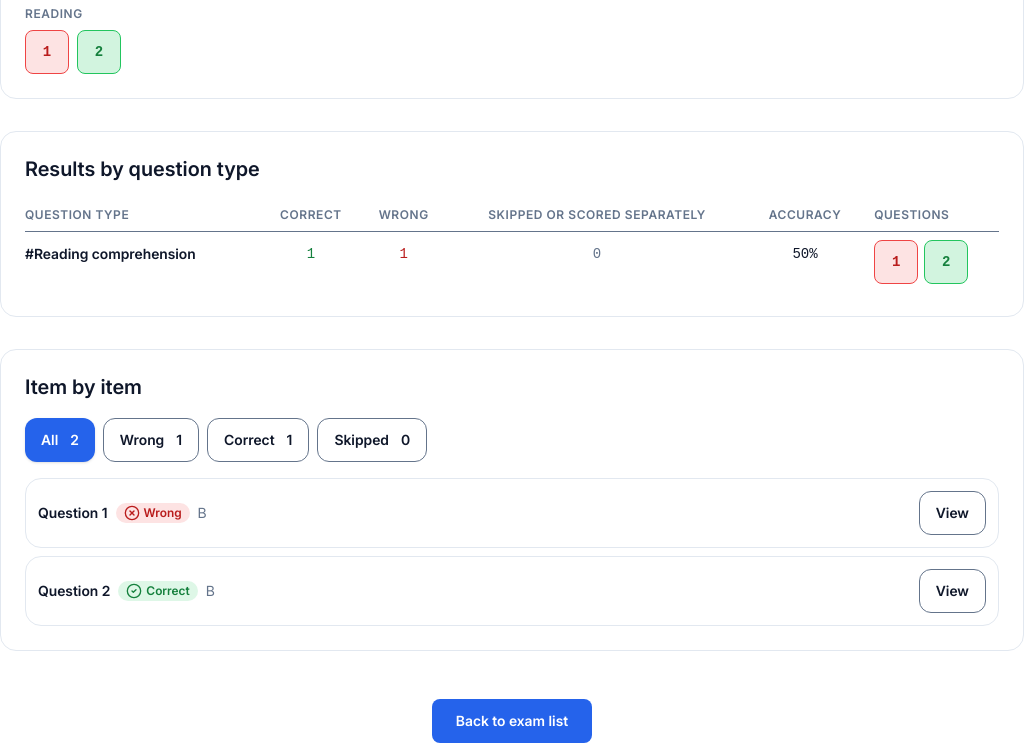
Test: exam report question review › filters compact rows and expands only the selected question
(page scrolled)
Expected: the text "When is the library closed?" is not shown
Expected: the text "The passage says it is closed on Friday." is not shown
Click the button "Wrong 1": (151, 440) [103,418,199,462]
(page scrolled)
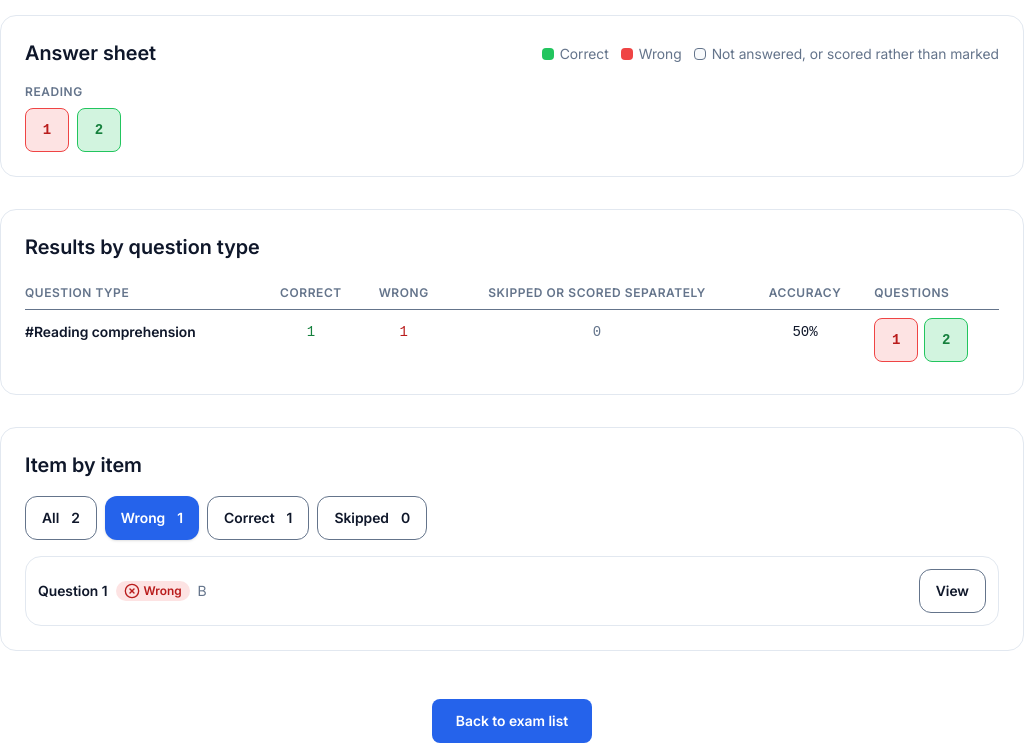
Expected: the text "Question 1" is shown, [38,581,108,601]
Result: the text "Question 2" is gone
Click the button "Correct 1": (258, 518) [207,496,309,540]
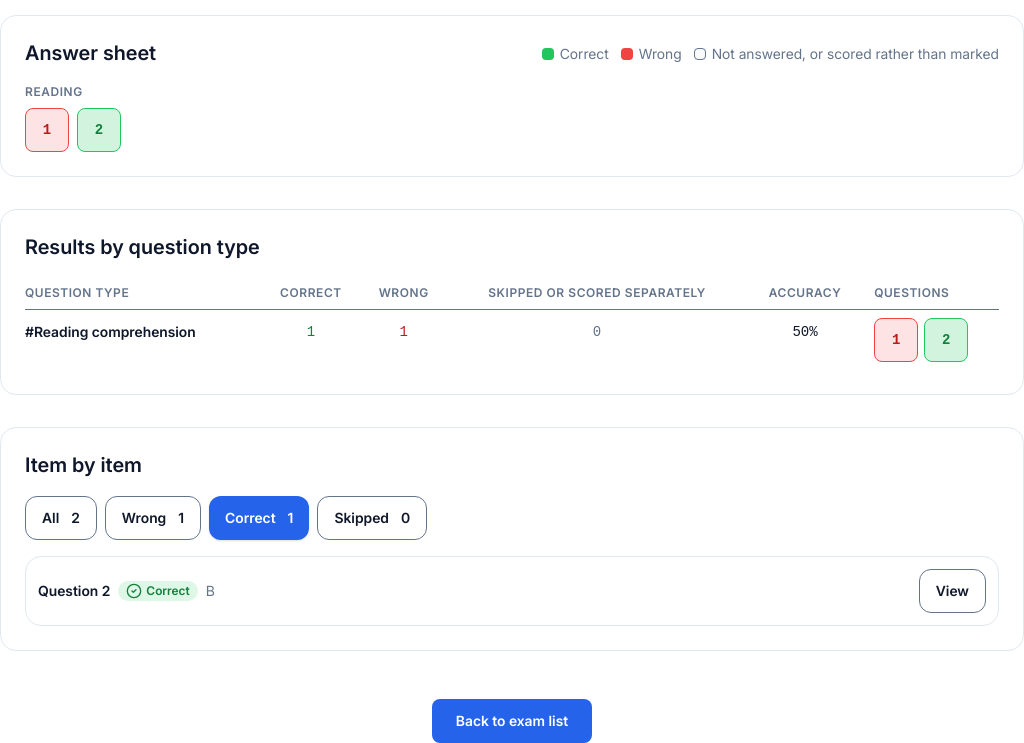
Result: the text "Question 2" is shown at [38,581,110,601]
Result: the text "Question 1" is gone
Click the button "All 2": (61, 518) [25,496,97,540]
(page scrolled)
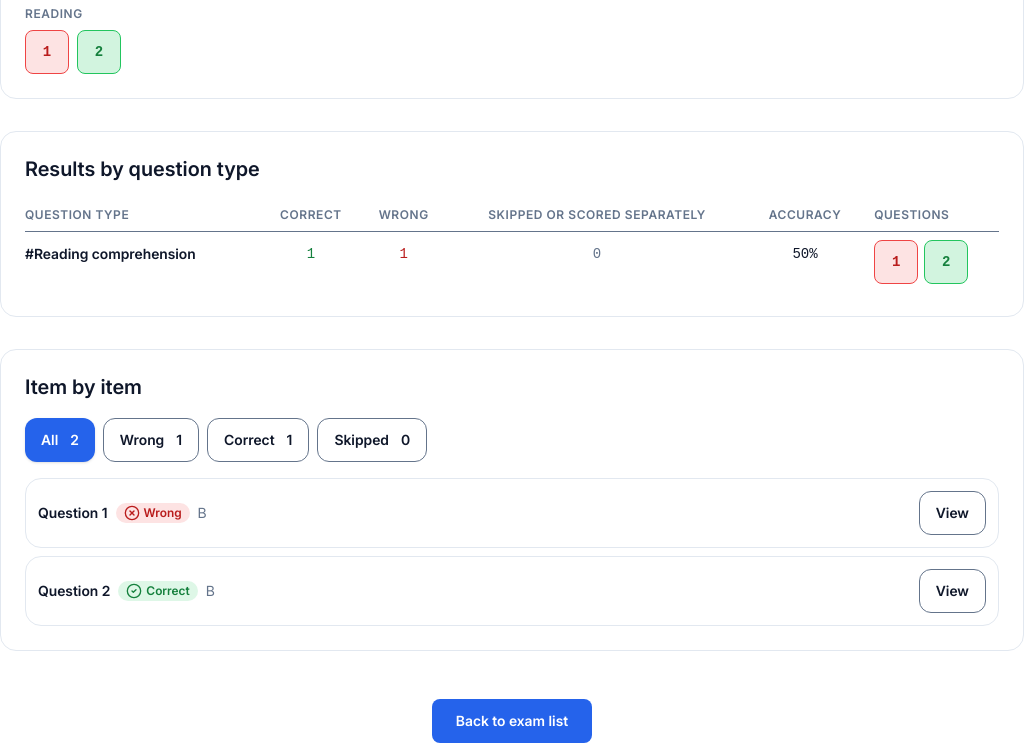
Click the button "View" in the row of "Question 1": (952, 513) [919,491,986,535]
(page scrolled)
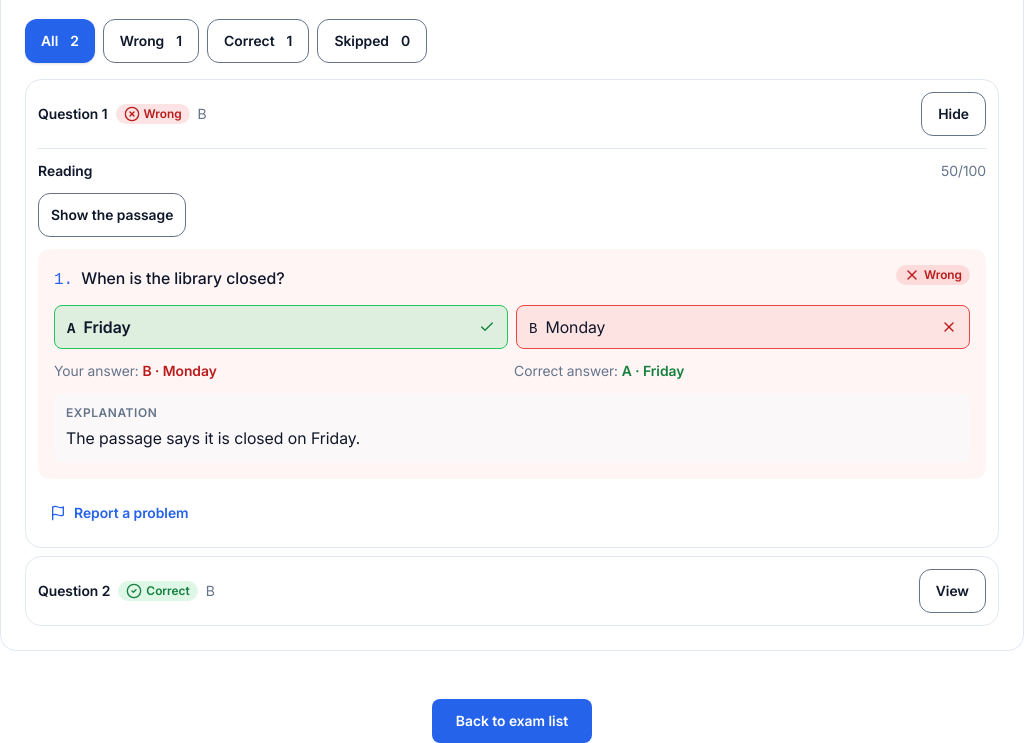
Result: the text "When is the library closed?" is shown at [81,268,285,288]
Result: the text "The passage says it is closed on Friday." is shown at [66,428,360,448]
